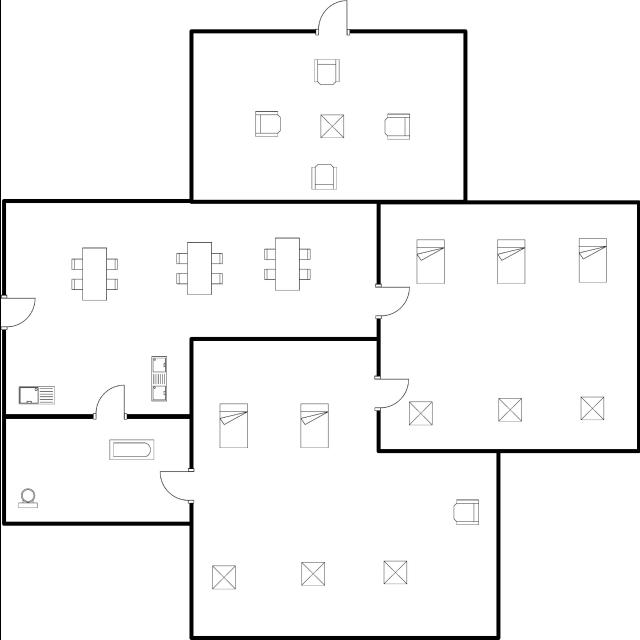armchair: (379, 108, 415, 144), (309, 52, 344, 88), (251, 104, 285, 140), (306, 160, 341, 194), (451, 492, 483, 528)
bed: (214, 398, 252, 454), (492, 234, 528, 290), (410, 235, 448, 288), (296, 399, 332, 453), (574, 234, 610, 287)
coffee_table: (377, 556, 411, 588), (296, 558, 328, 592), (315, 110, 347, 144), (494, 394, 526, 426), (208, 562, 240, 594), (403, 398, 436, 428), (577, 392, 608, 423)
dining_table: (259, 230, 315, 296), (66, 240, 120, 306), (172, 234, 226, 299)
large_sink: (12, 482, 40, 510)
sink: (14, 382, 58, 409)
tub: (104, 434, 158, 462)
twin_sink: (147, 350, 171, 406)
